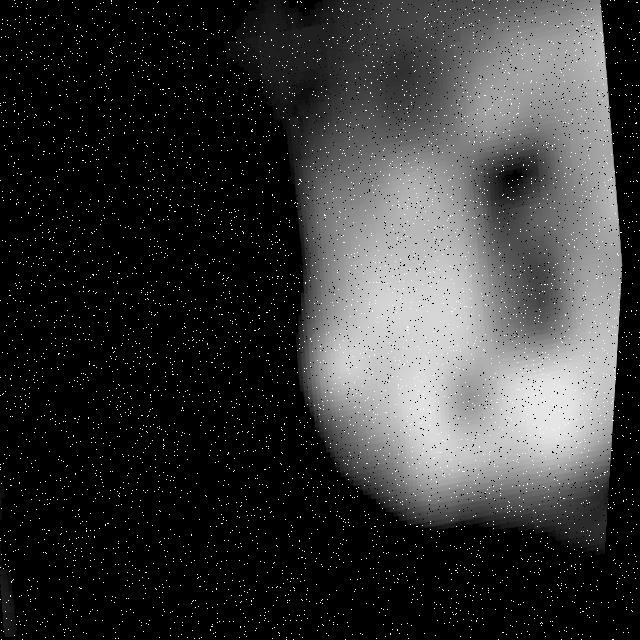person: (265, 54, 522, 590), (421, 1, 640, 547)
